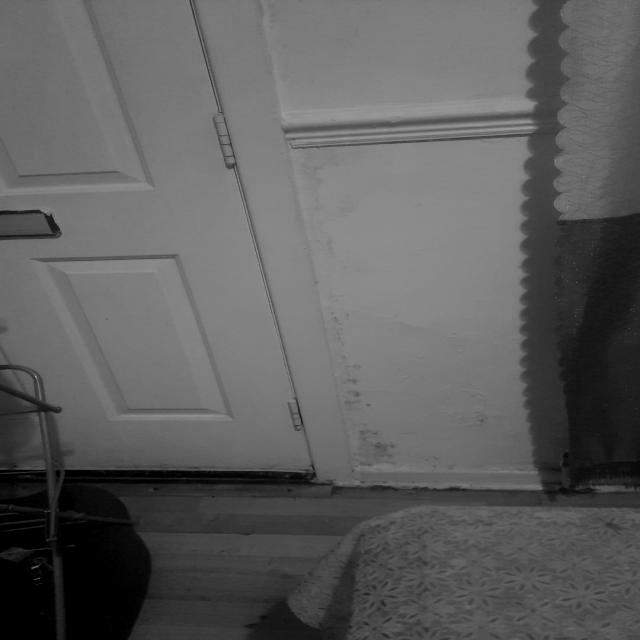stain marks: (429, 374, 536, 472), (293, 144, 376, 266), (342, 348, 394, 474), (312, 295, 362, 355)
